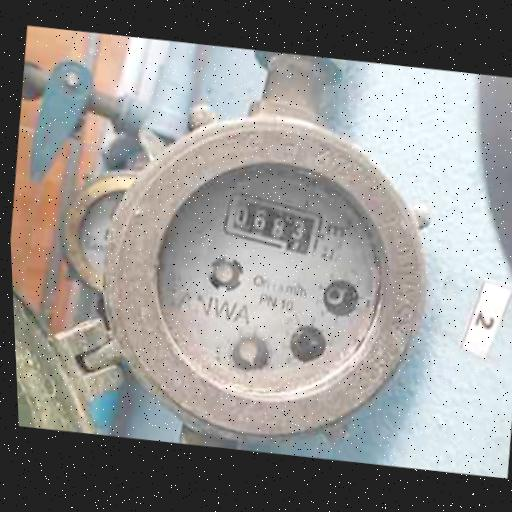0: (230, 199, 256, 234)
3: (282, 211, 317, 256)
6: (248, 203, 274, 237)
8: (265, 207, 292, 242)
border_water_meter_number: (218, 188, 328, 259)
